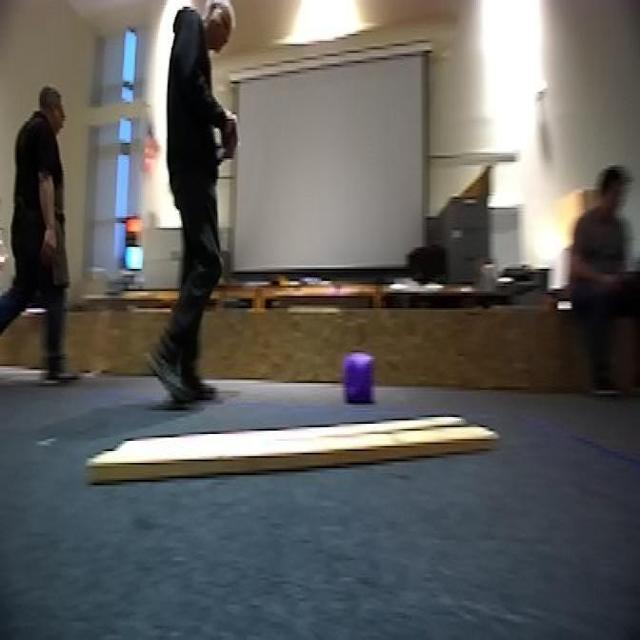frc_cube: (340, 356, 377, 403)
